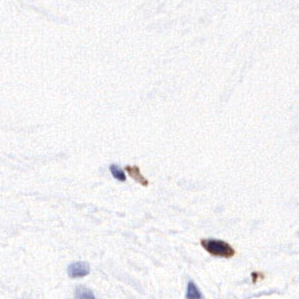Lymphocyte: (200, 235, 236, 260)
